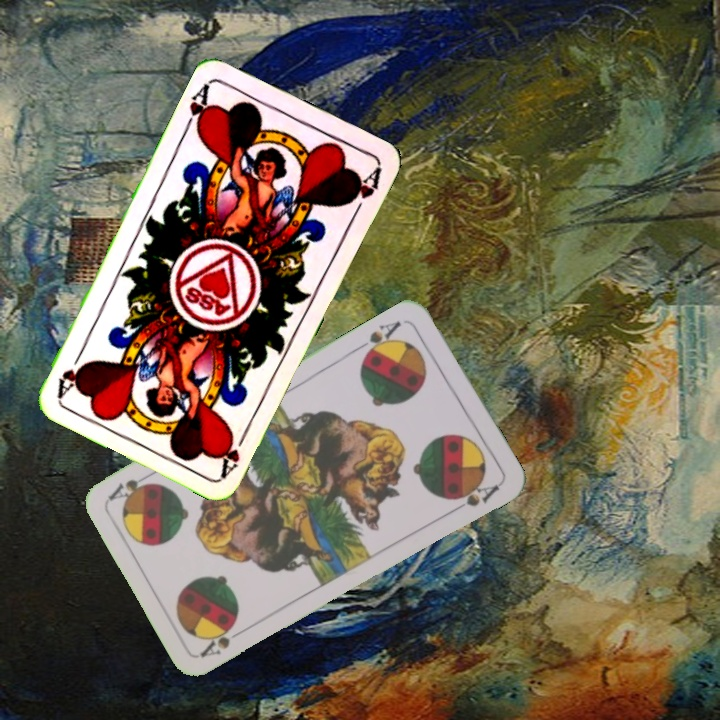HA: (214, 423, 252, 479), (180, 79, 215, 137)
SA: (196, 619, 251, 660), (355, 317, 404, 360)
